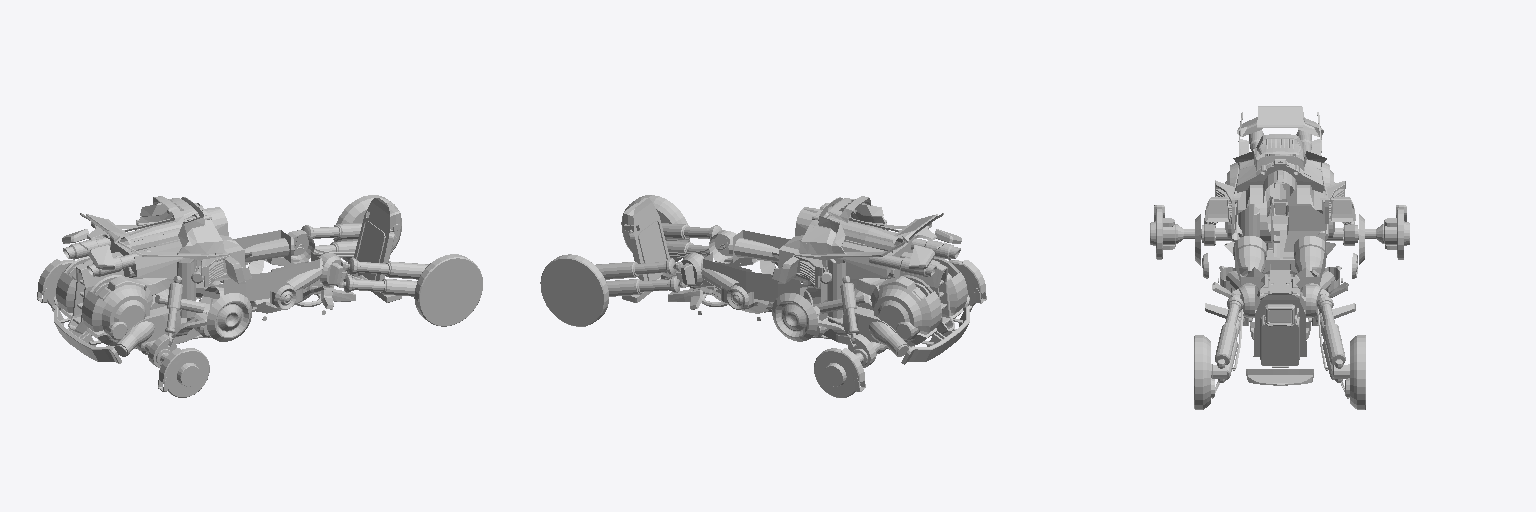
The model's file is Esper_chassis.obj.
3 views of the same model, side by side, from view 1: azimuth 30°, elevation 25°; view 2: azimuth 150°, elevation 25°; view 3: azimuth 270°, elevation 25° (orthographic).
Visible parts, largest first — view 1: Body_NeoBike_SK.002; view 2: Body_NeoBike_SK.002; view 3: Body_NeoBike_SK.002.
Boxes of the visible parts, x1=… form: Body_NeoBike_SK.002: x1=37, y1=195, x2=482, y2=397; Body_NeoBike_SK.002: x1=540, y1=195, x2=986, y2=397; Body_NeoBike_SK.002: x1=1150, y1=106, x2=1409, y2=409.
Size of the model in its own units: 131 by 51.65 by 79.8.